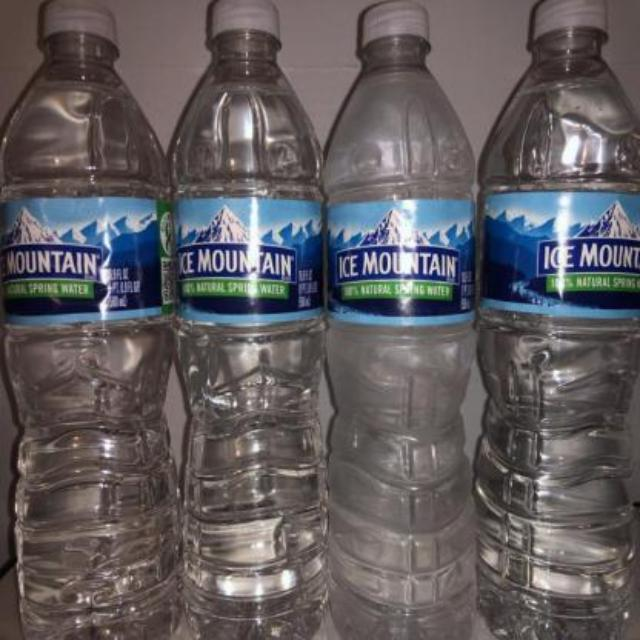plastic_bottle: (1, 1, 190, 640), (165, 3, 336, 640), (317, 2, 476, 640), (484, 1, 640, 640)
